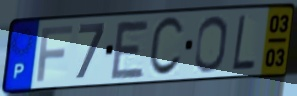7: (74, 20, 109, 82)
C: (147, 15, 186, 80)
E: (109, 19, 152, 81)
F: (35, 24, 75, 84)
L: (230, 13, 257, 72)
O: (193, 14, 229, 75)
